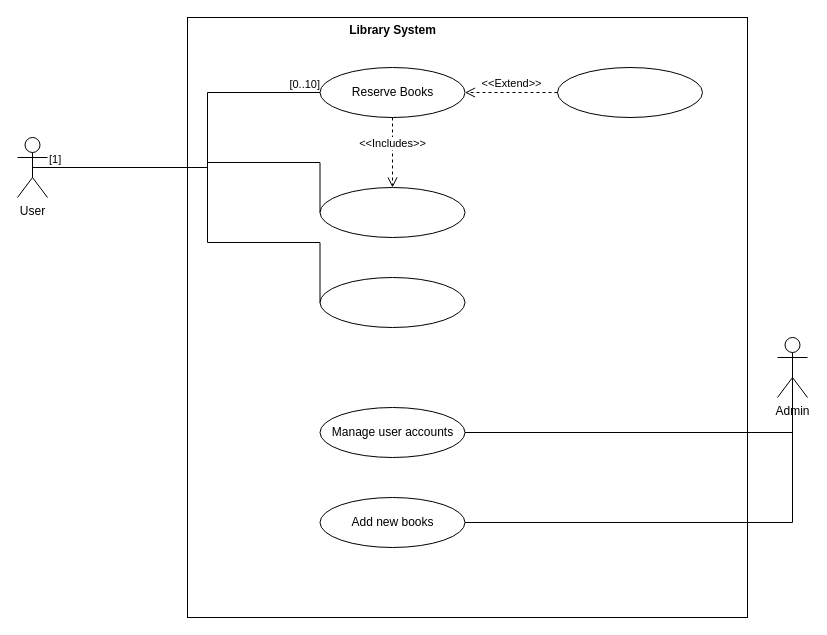
This 827x635 diagram has some shape labels left out. Each missing label, with the centre of its shape:
"Check books avalibility" goes at [392,212].
"Sends confirmation" goes at [629,92].
"View books borrowed" goes at [392,302].
